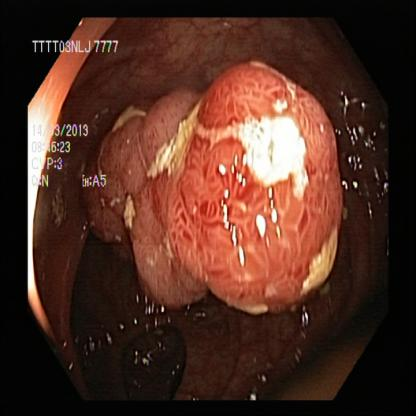Labels: (29, 37, 119, 189)
Polyps: (188, 77, 349, 297)
